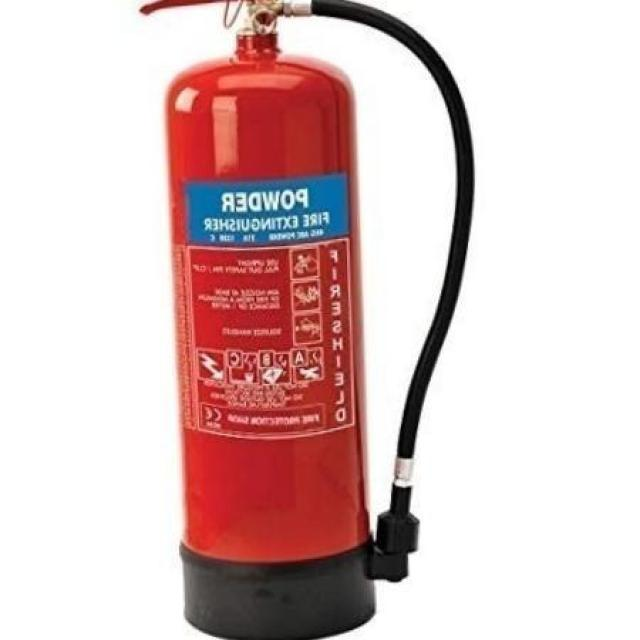fire_extinguisher: (129, 0, 481, 639)
